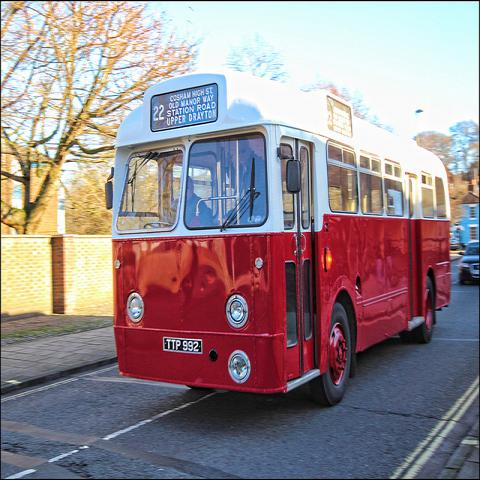bus: (110, 72, 452, 399)
car: (457, 241, 479, 285)
